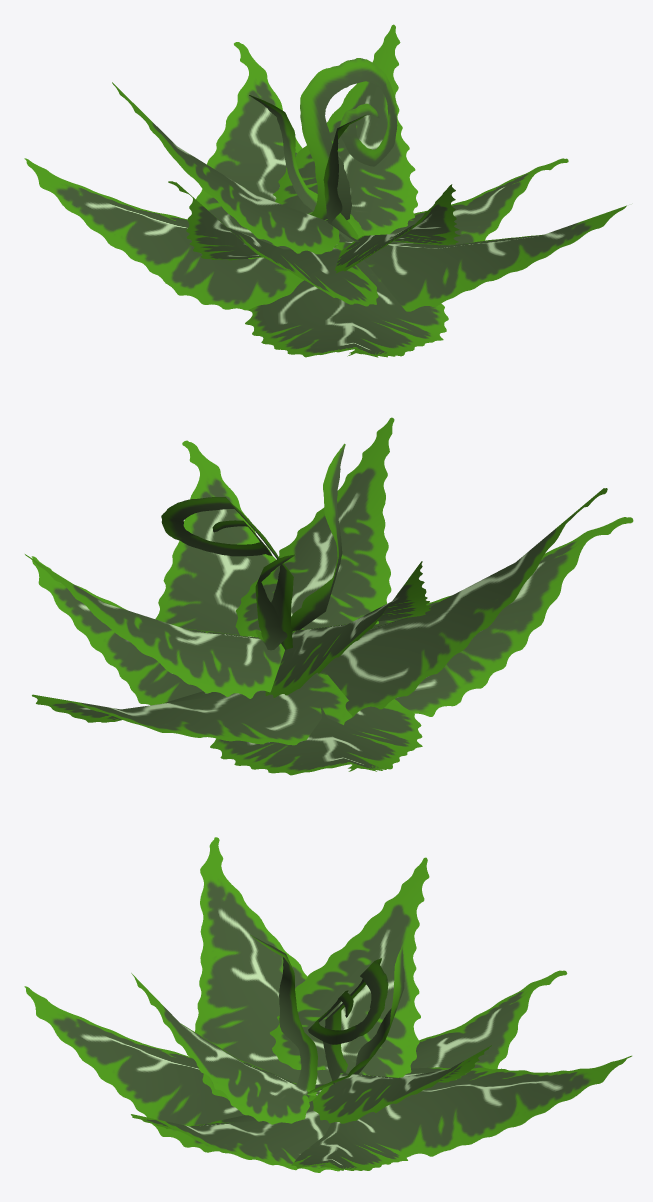
The model's file is Ctn_groundPlant_01_v01.FBX.
3 renders of one model, top to bottom at view 1: azimuth 30°, elevation 25°; view 2: azimuth 150°, elevation 25°; view 3: azimuth 270°, elevation 25°, orthographic. The views are drawn at different scales.
Visible parts, largest first — view 1: Ctn_groundPlant_01_v01; view 2: Ctn_groundPlant_01_v01; view 3: Ctn_groundPlant_01_v01.
Boxes of the visible parts, x1,y1,x2,y2 form: Ctn_groundPlant_01_v01: (24,24,626,357); Ctn_groundPlant_01_v01: (25,417,633,775); Ctn_groundPlant_01_v01: (24,837,631,1172).
Bounding box in the file's own units: 58.04 × 26.21 × 71.76.
